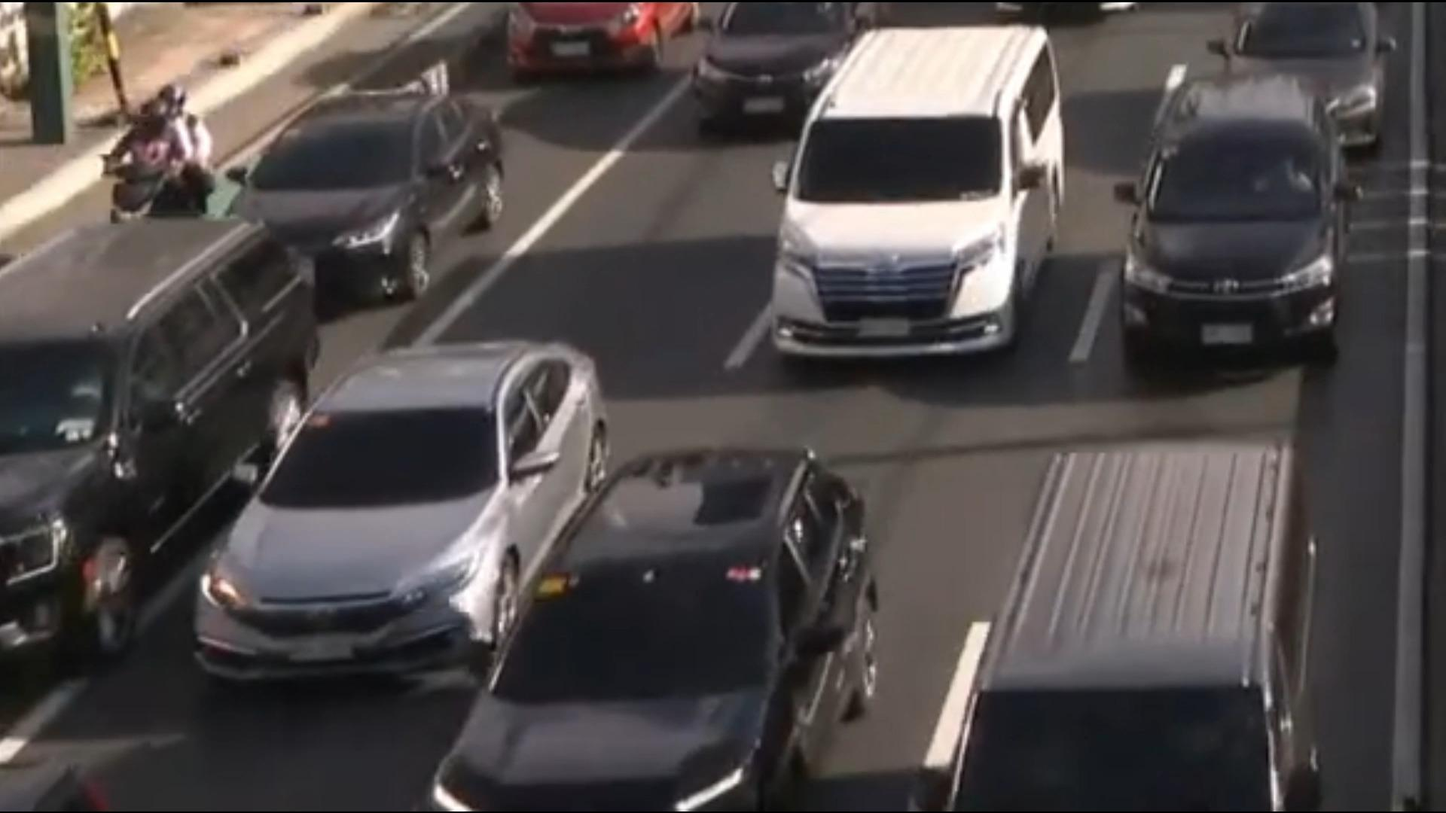Motorcycle: (104, 87, 220, 218)
SUV: (433, 454, 879, 813), (0, 218, 309, 640), (1115, 81, 1346, 369)
Sedan: (198, 344, 610, 683), (226, 94, 508, 312), (693, 0, 887, 134), (1228, 0, 1386, 141)
Van: (949, 433, 1327, 813), (763, 28, 1068, 367)
